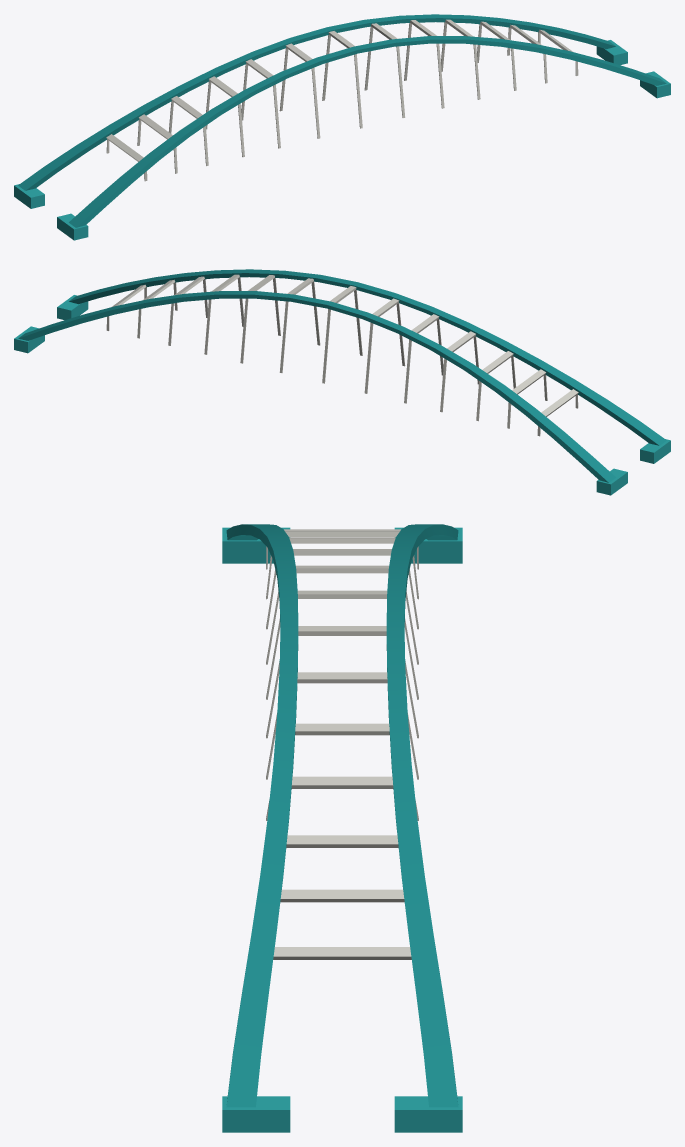
File: railwaybridge_arcs.fbx
3 renders of one model, top to bottom at view 1: azimuth 30°, elevation 25°; view 2: azimuth 150°, elevation 25°; view 3: azimuth 270°, elevation 25°, orthographic. The views are drawn at different scales.
Parts seen in each view (by area): view 1: railwaybridge_arcs; view 2: railwaybridge_arcs; view 3: railwaybridge_arcs.
Part boxes in pixels (x1,y1,x2,y2): railwaybridge_arcs: (14,14,670,240); railwaybridge_arcs: (14,269,670,495); railwaybridge_arcs: (222,524,462,1132).
Size of the model in its own units: 6980 by 1198 by 1217.
